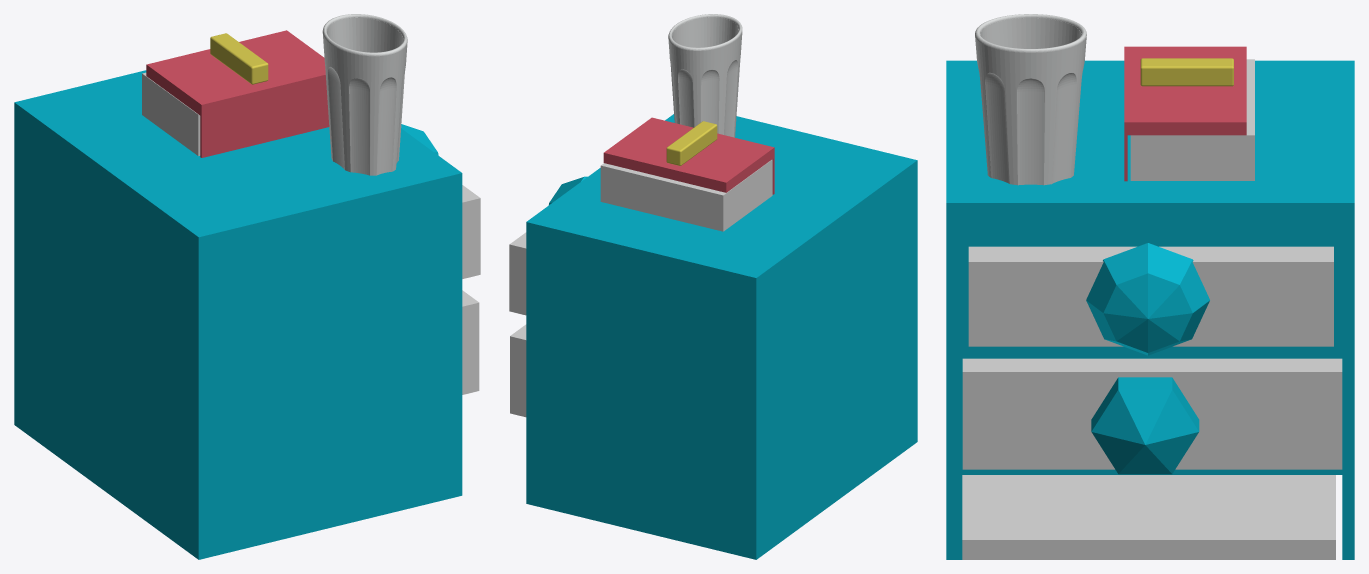
The model's file is Stunning Gaaris.glb.
3 views of the same model, side by side, from view 1: azimuth 30°, elevation 25°; view 2: azimuth 150°, elevation 25°; view 3: azimuth 270°, elevation 25° (orthographic). The views are drawn at different scales.
Parts seen in each view (by area): view 1: Mesh_Mesh_head_geo.001_lambert2SG.001; view 2: Mesh_Mesh_head_geo.001_lambert2SG.001; view 3: Mesh_Mesh_head_geo.001_lambert2SG.001.
Boxes of the visible parts, x1=… form: Mesh_Mesh_head_geo.001_lambert2SG.001: x1=14, y1=14, x2=480, y2=559; Mesh_Mesh_head_geo.001_lambert2SG.001: x1=509, y1=14, x2=917, y2=559; Mesh_Mesh_head_geo.001_lambert2SG.001: x1=946, y1=14, x2=1354, y2=559.
Size of the model in its own units: 68.78 by 88 by 65.58.
